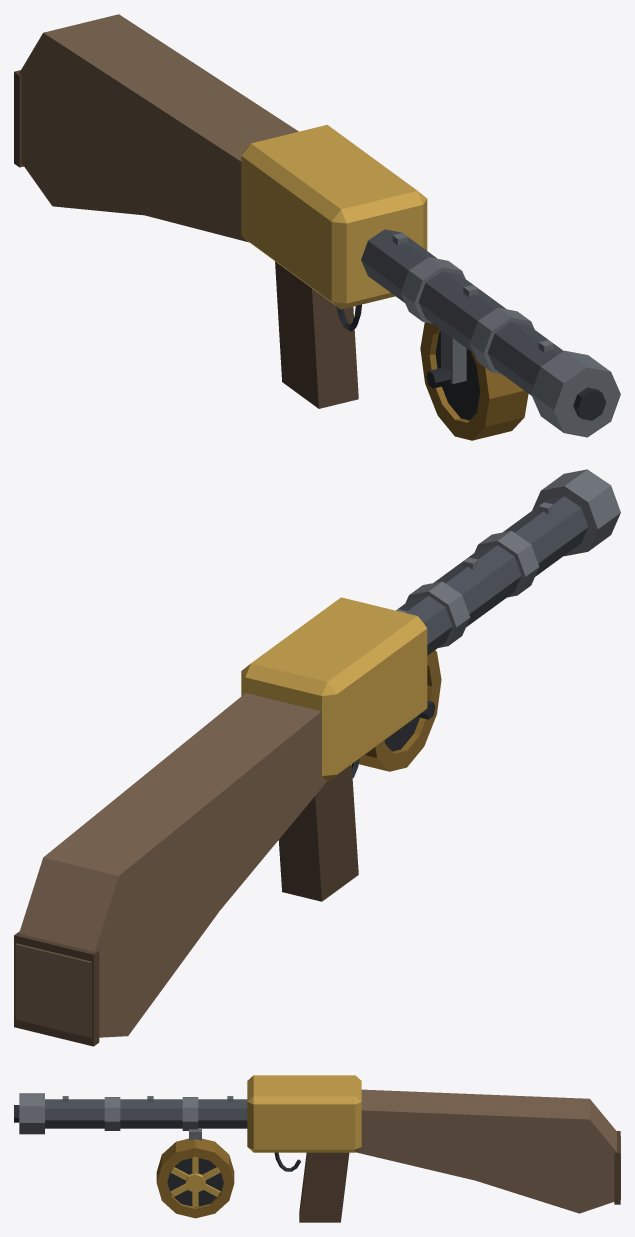
File: harpoon_gun.glb
The picture shows the model from 3 angles, top to bottom: view 1: azimuth 30°, elevation 25°; view 2: azimuth 150°, elevation 25°; view 3: azimuth 270°, elevation 25°; orthographic projection. The views are drawn at different scales.
Parts seen in each view (by area): view 1: gun_body, reel; view 2: gun_body, reel; view 3: gun_body, reel.
Part boxes in pixels (box(x1,y1,x2,y2)): gun_body: box(14, 14, 620, 437); reel: box(420, 322, 528, 440); gun_body: box(14, 469, 620, 1046); reel: box(359, 650, 441, 771); gun_body: box(14, 1075, 620, 1222); reel: box(156, 1138, 234, 1218).
Bounding box in the file's own units: 0.1435 × 0.28 × 1.17.
1 material, 1 textured.
